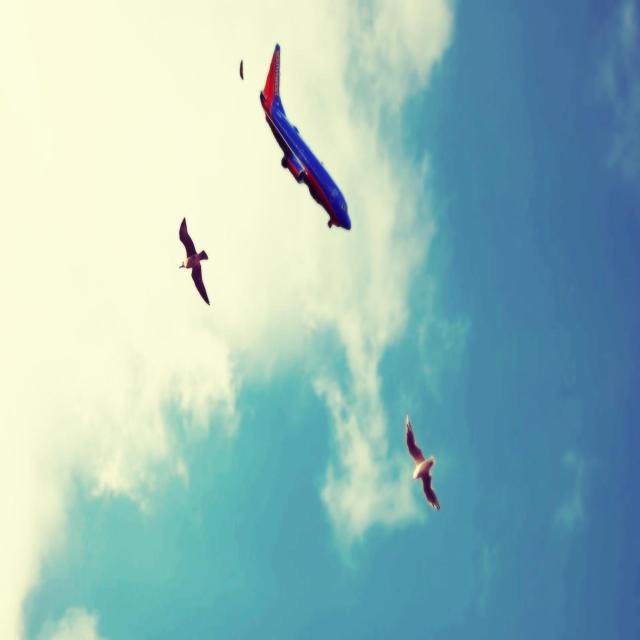airplane: (259, 44, 353, 232)
